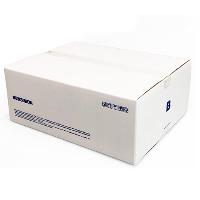undamaged: (0, 34, 193, 171)
